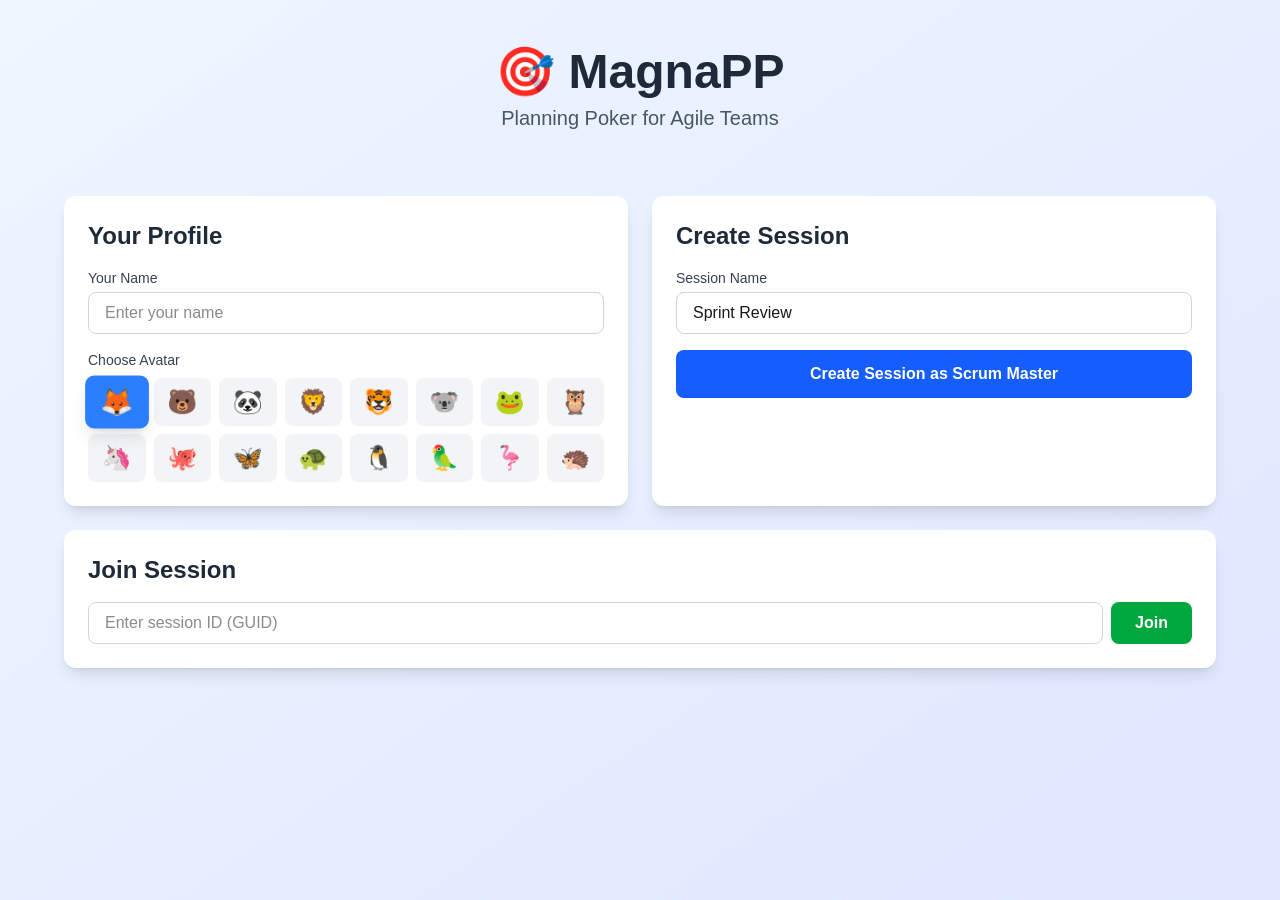
Test case: SessionLobby › shows error when creating session without name
Click the button "Create Session as Scrum Master" at (934, 374), box [676,350,1192,398]
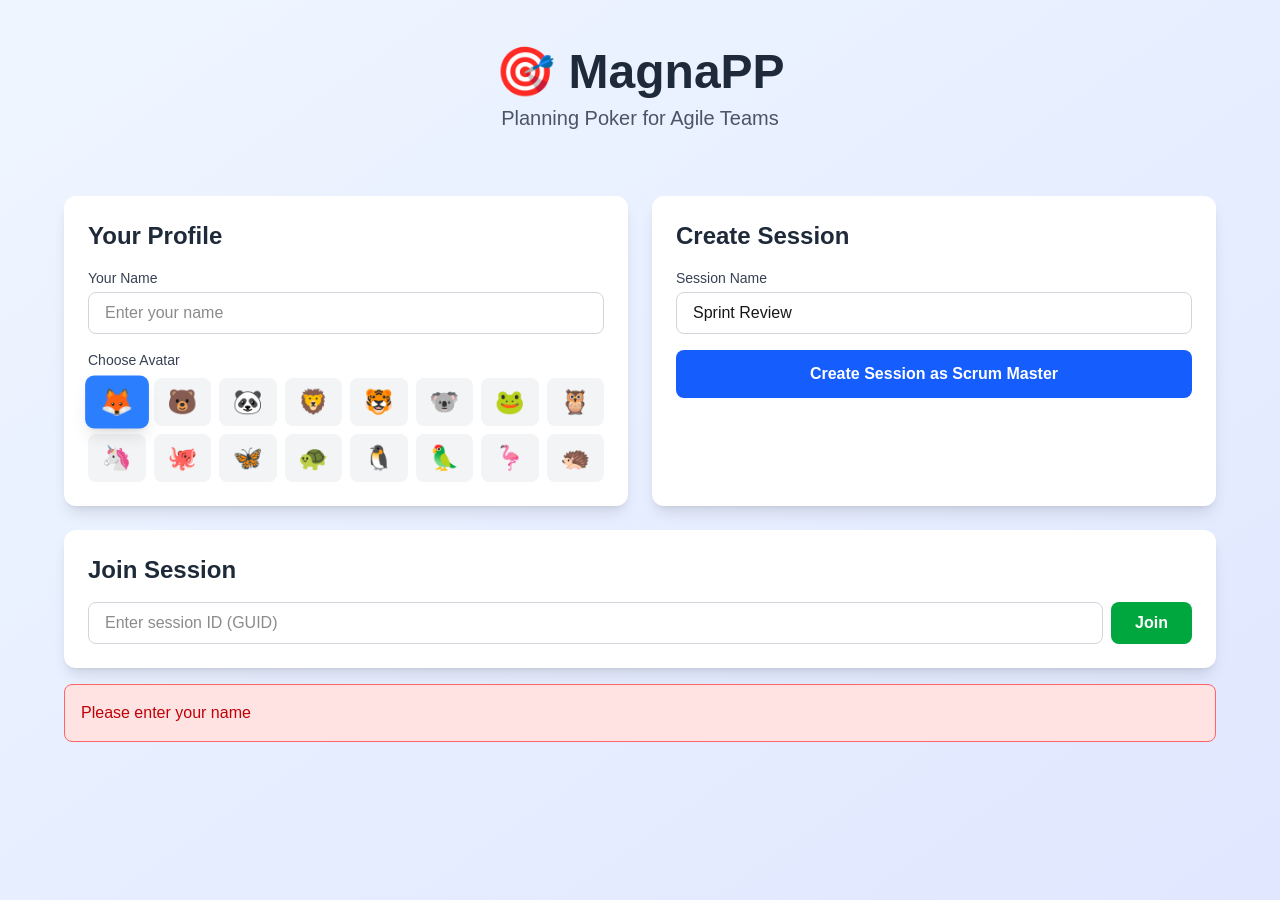
expect the text "Please enter your name" is shown: met, box [64,684,1216,742]
